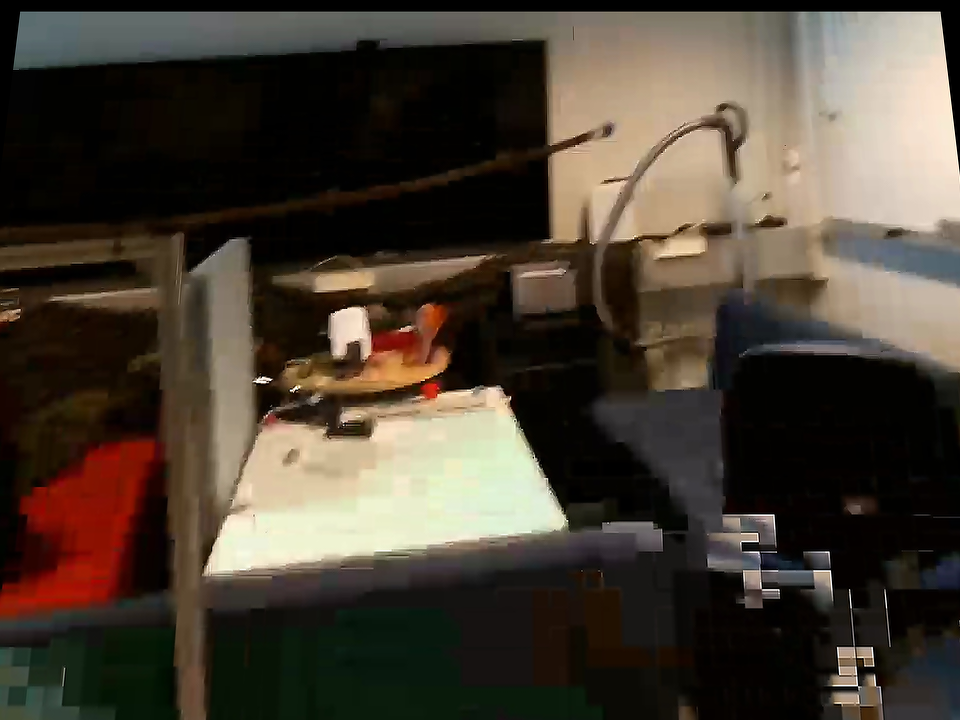branch: (198, 125, 580, 231)
